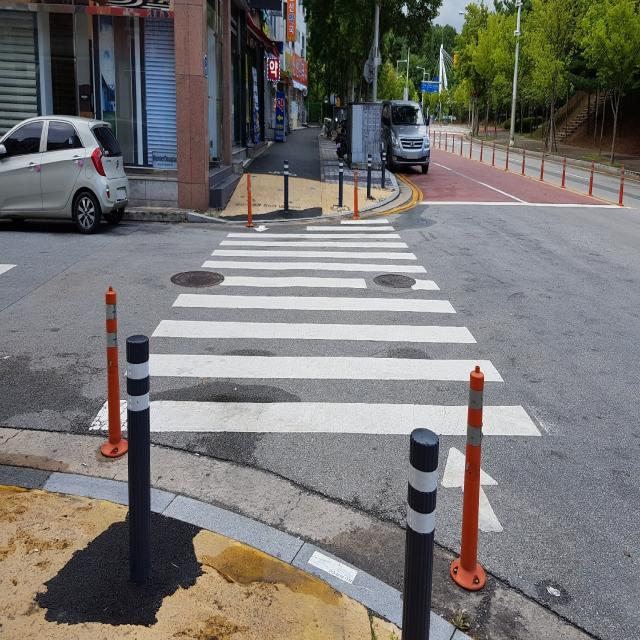횡단보도: (89, 218, 542, 533)
